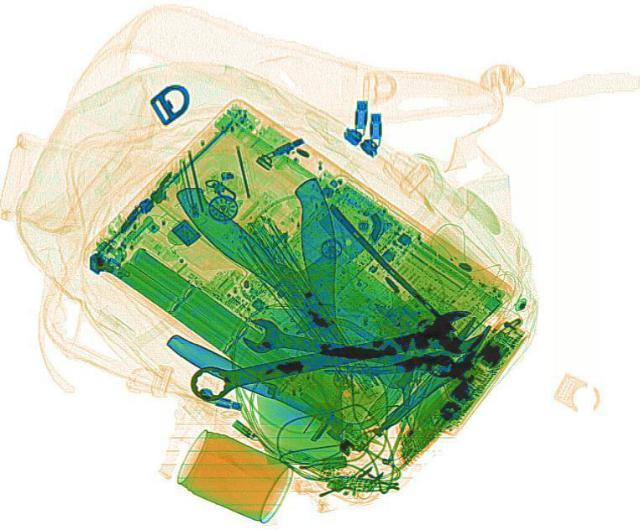Knife: (154, 159, 472, 393), (251, 176, 347, 462)
Wrench: (180, 304, 490, 407), (242, 313, 460, 387)
